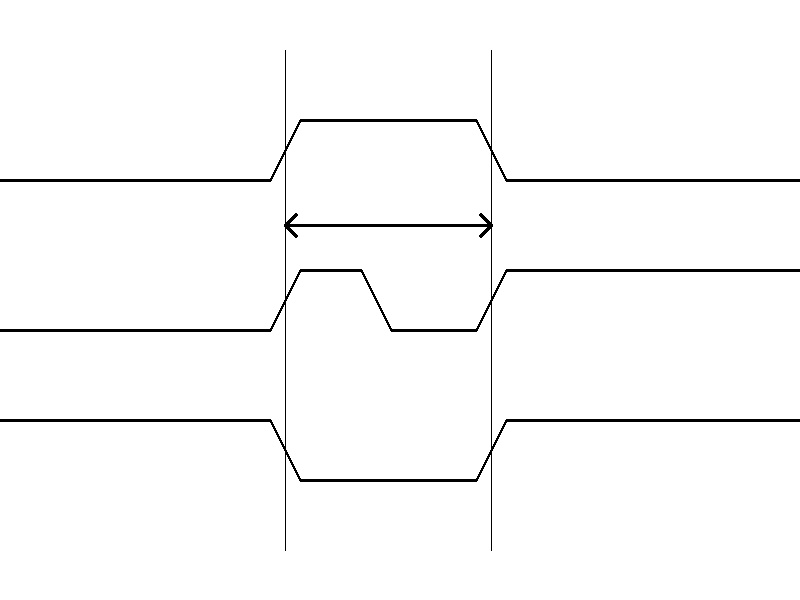double_arrow: (285, 210, 491, 240)
